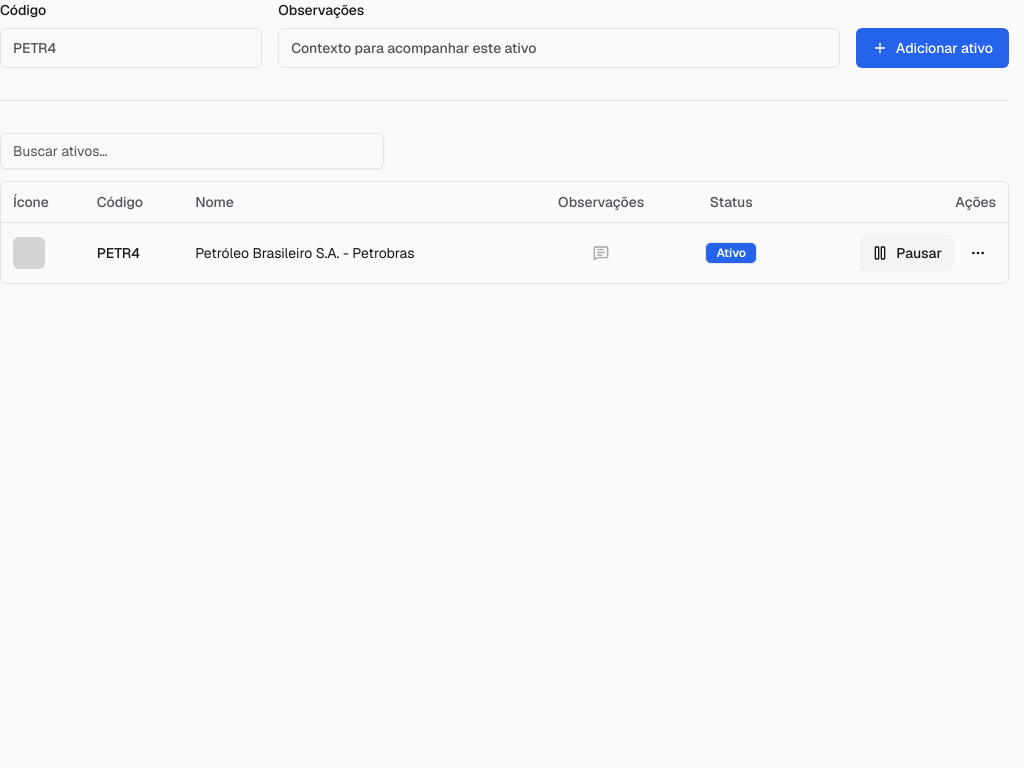
Test case: WatchlistManagement optimistic actions › groups edit and delete behind the ellipsis action
Press the mouse on the button named "Mais ações para PETR4" at (978, 252), box x1=960 y1=234 x2=996 y2=270
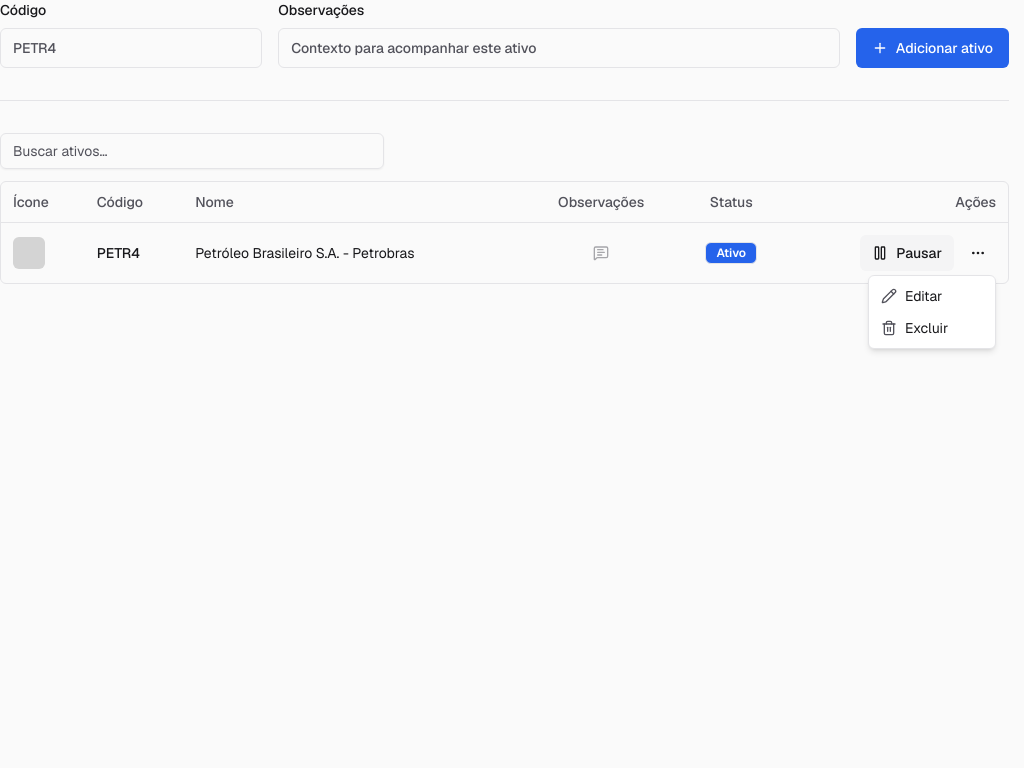
expect the menu item "Editar" is shown: met, box x1=881 y1=287 x2=942 y2=305
Click the menu item "Excluir" at (915, 328), box x1=881 y1=319 x2=948 y2=337
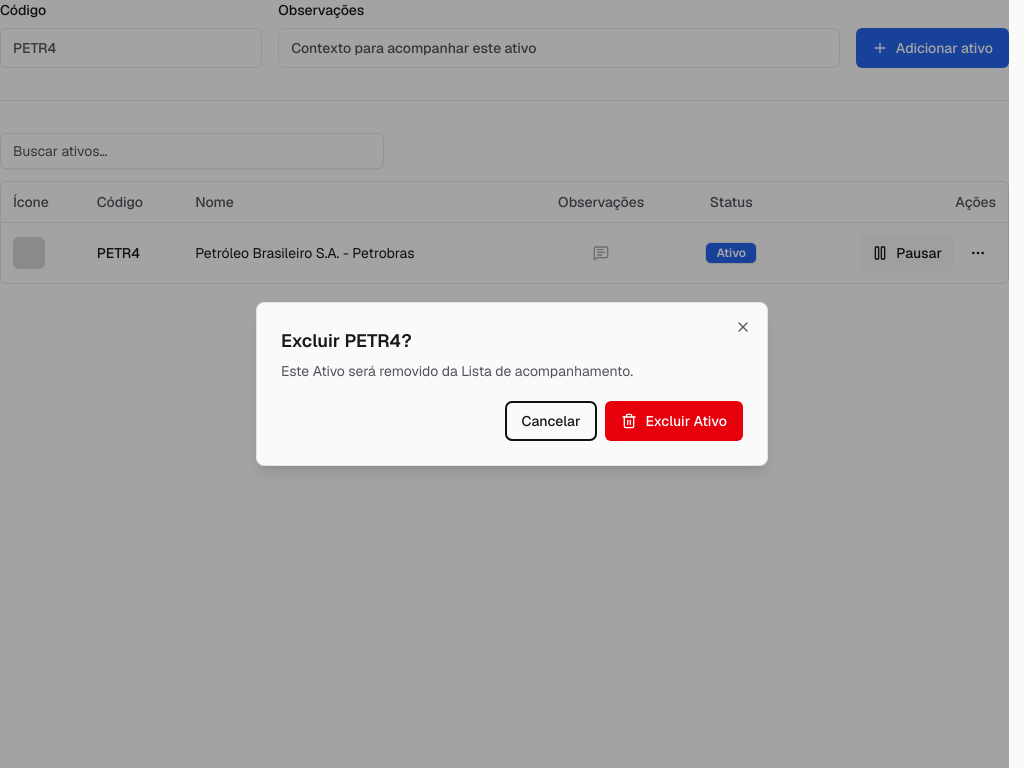
expect the heading "Excluir PETR4?" is shown: met, box x1=281 y1=329 x2=412 y2=352
